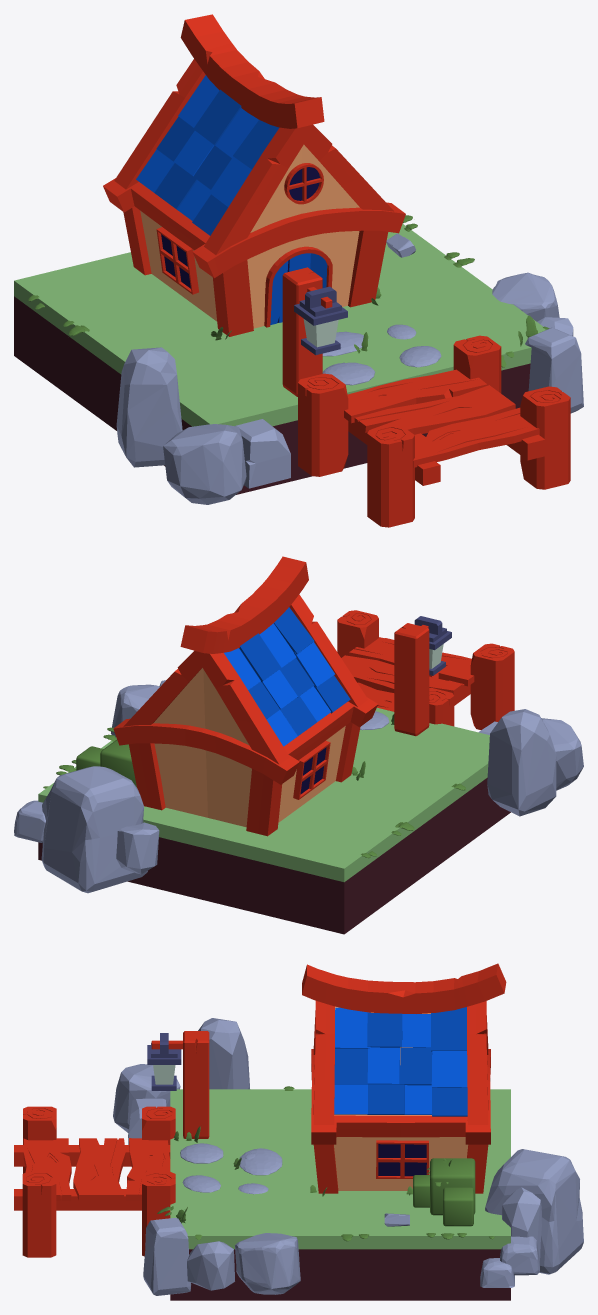
File: House.fbx
3 views of the same model, one above another, from view 1: azimuth 30°, elevation 25°; view 2: azimuth 150°, elevation 25°; view 3: azimuth 270°, elevation 25° (orthographic). The views are drawn at different scales.
Visible parts, largest first — view 1: Base, wood, walls, woodup, Cubo.103, Cubo.102, Cubo.044, Cubo.045, Cubo, Cubo.038, Cubo.041, Cubo.042 (+26 smaller); view 2: Base, wood, walls, Cubo.056, Cubo.103, woodup, Cubo.046, Cubo.045, Cubo.058, Cubo.102, Cubo.041, Cubo.038 (+20 smaller); view 3: Base, wood, woodup, Cubo.056, walls, Cubo.055, Cubo.052, Cubo, Cubo.041, Cubo.046, Cubo.103, Cubo.054 (+32 smaller).
Part boxes in pixels (x1,y1,x2,y2): Base: [14, 223, 546, 494]; wood: [103, 59, 405, 336]; walls: [140, 144, 359, 328]; woodup: [180, 14, 324, 128]; Cubo.103: [116, 347, 182, 467]; Cubo.102: [163, 424, 246, 504]; Cubo.044: [298, 373, 348, 476]; Cubo.045: [367, 424, 414, 527]; Cubo: [520, 386, 570, 489]; Cubo.038: [413, 407, 539, 467]; Cubo.041: [354, 385, 515, 434]; Cubo.042: [344, 369, 487, 423]; Base: [38, 707, 510, 934]; wood: [113, 594, 378, 836]; walls: [153, 668, 345, 827]; Cubo.056: [41, 766, 147, 893]; Cubo.103: [487, 709, 556, 816]; woodup: [180, 556, 308, 653]; Cubo.046: [394, 623, 429, 736]; Cubo.045: [470, 643, 514, 729]; Cubo.058: [116, 822, 159, 874]; Cubo.102: [541, 718, 583, 790]; Cubo.041: [341, 655, 462, 696]; Cubo.038: [349, 637, 474, 686]; Base: [170, 1089, 510, 1300]; wood: [311, 1001, 490, 1193]; woodup: [302, 963, 506, 1013]; Cubo.056: [485, 1149, 583, 1274]; walls: [334, 1006, 468, 1190]; Cubo.055: [235, 1233, 300, 1294]; Cubo.052: [143, 1218, 191, 1295]; Cubo: [22, 1171, 56, 1257]; Cubo.041: [73, 1138, 125, 1201]; Cubo.046: [183, 1031, 209, 1138]; Cubo.103: [198, 1018, 249, 1089]; Cubo.054: [187, 1241, 234, 1290].
Size of the model in its own units: 1738 by 1070 by 2134.
